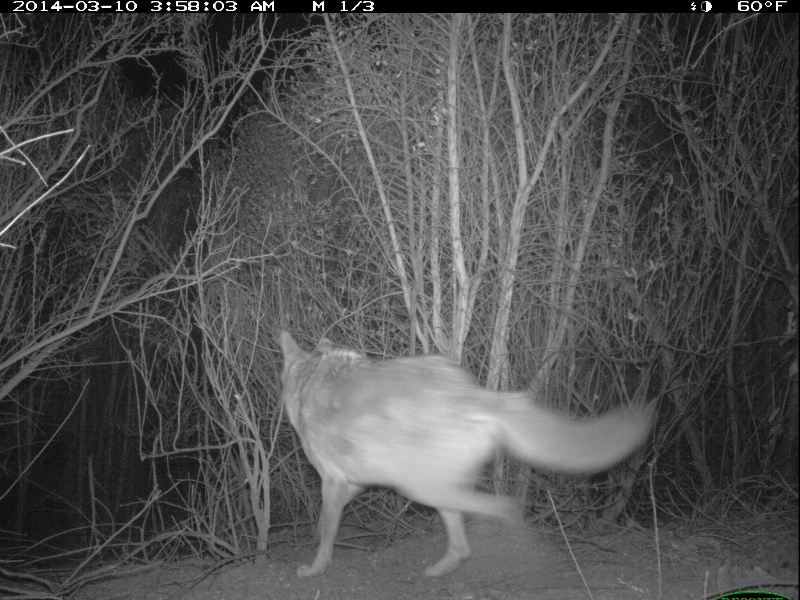coyote: (275, 326, 653, 582)
